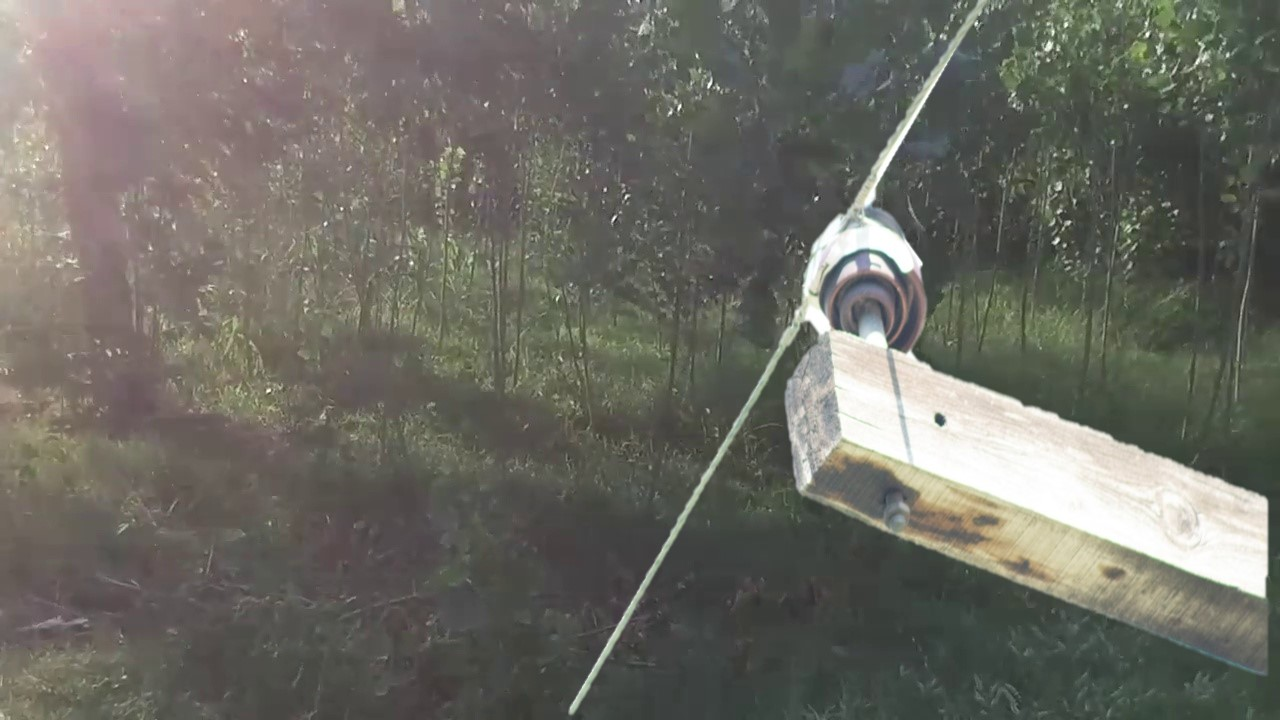defect_pin: (795, 200, 935, 355)
